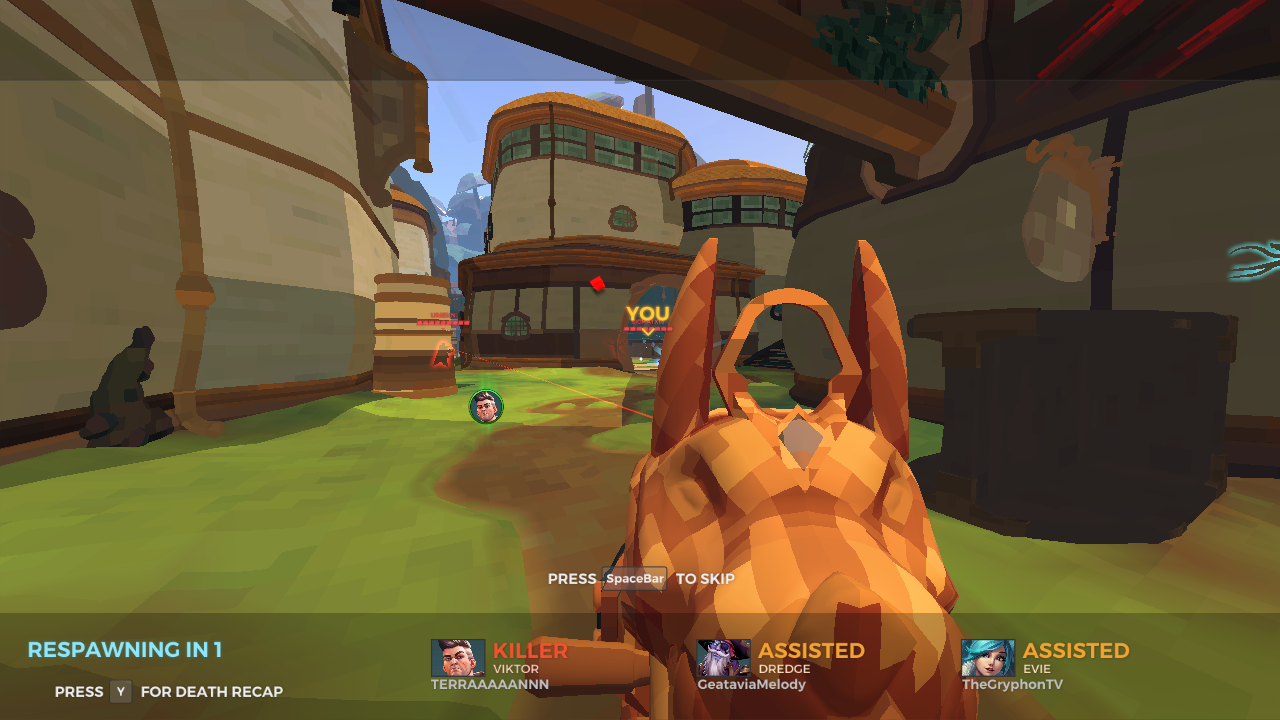model: (435, 337, 451, 365)
